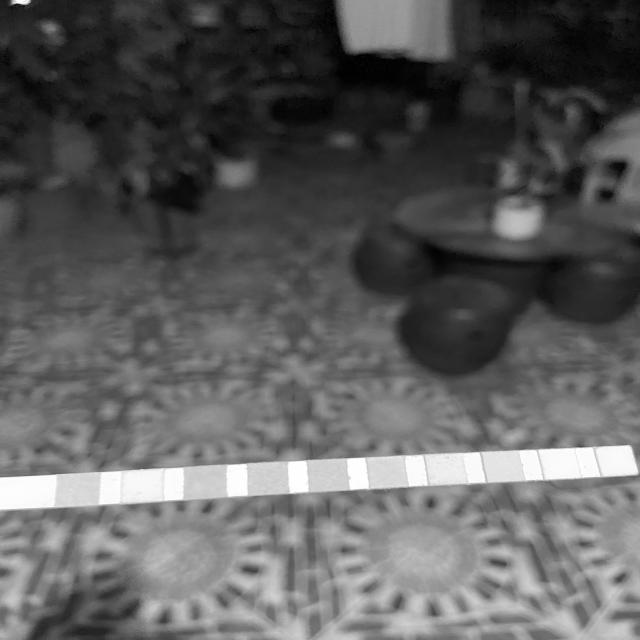Bilirubin: (122, 471, 163, 501)
Blood: (308, 461, 346, 491)
Glucose: (57, 475, 99, 505)
Ketone: (184, 467, 227, 497)
Leukocytes: (601, 446, 631, 476)
Nitrite: (544, 450, 575, 478)
Protein: (428, 455, 463, 484)
SpGravity: (248, 464, 288, 494)
Urobilinogen: (486, 452, 519, 481)
background: (0, 0, 640, 640)
pH: (369, 458, 405, 487)
strip: (0, 445, 640, 510)
